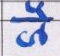ai_matra: (26, 0, 51, 18)
